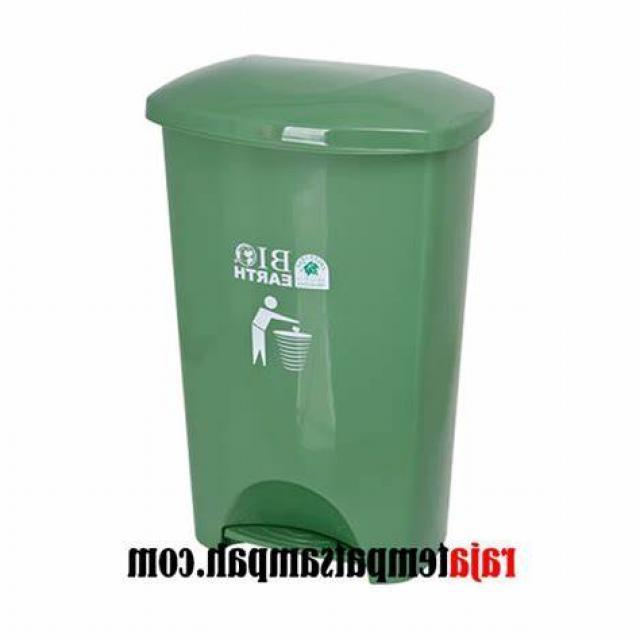garbage container: (157, 36, 487, 551)
